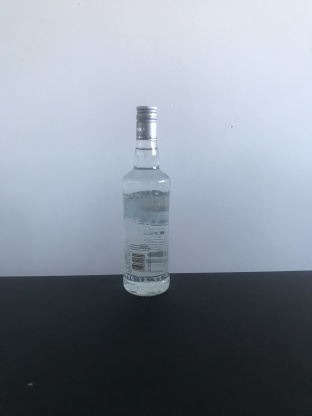nakretka: (134, 103, 158, 142)
